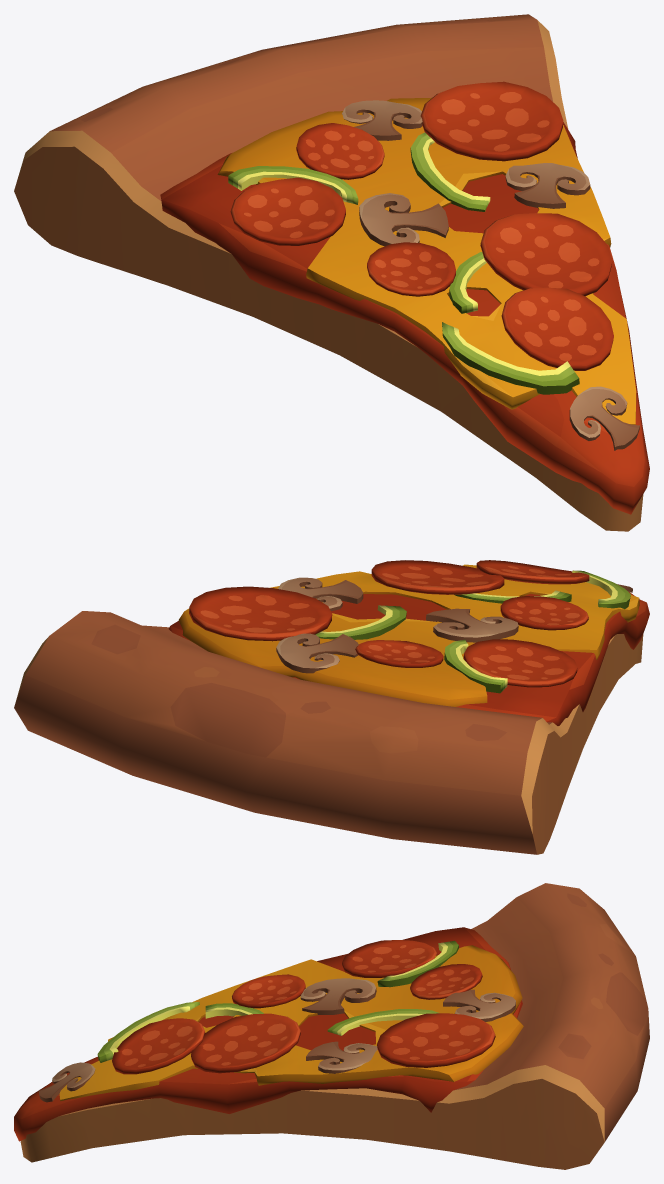
File: pizzaModelo.glb
3 views of the same model, one above another, from view 1: azimuth 30°, elevation 25°; view 2: azimuth 150°, elevation 25°; view 3: azimuth 270°, elevation 25° (orthographic). The views are drawn at different scales.
Visible parts, largest first — view 1: SM_Pizza_portion_2.001; view 2: SM_Pizza_portion_2.001; view 3: SM_Pizza_portion_2.001.
Part boxes in pixels (left/top/right/bottom): SM_Pizza_portion_2.001: left=14, top=14, right=649, bottom=531; SM_Pizza_portion_2.001: left=14, top=560, right=649, bottom=854; SM_Pizza_portion_2.001: left=14, top=883, right=649, bottom=1169.
Bounding box in the file's own units: 6.47 × 2.72 × 8.36.
Materials: 1 (1 with a texture image).
